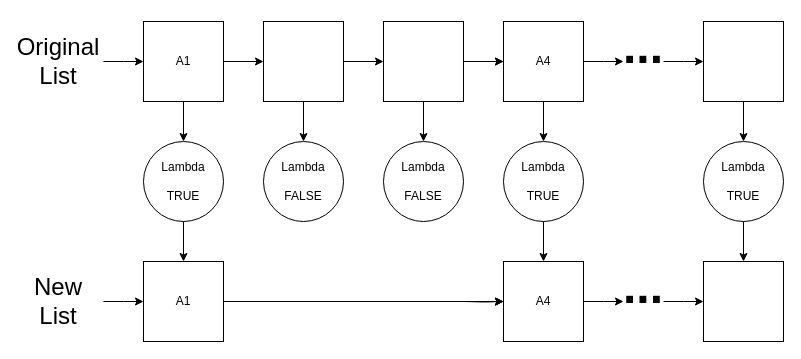
Image size: 801x359. Some labels were removed from this diagram. The shapes that lost their labels are listed below. From the top down, each one's box as (x1, y1, x2, y2) in pixels, then its label:
(262, 20, 344, 102): A2
(382, 20, 464, 102): A3
(702, 20, 784, 102): An
